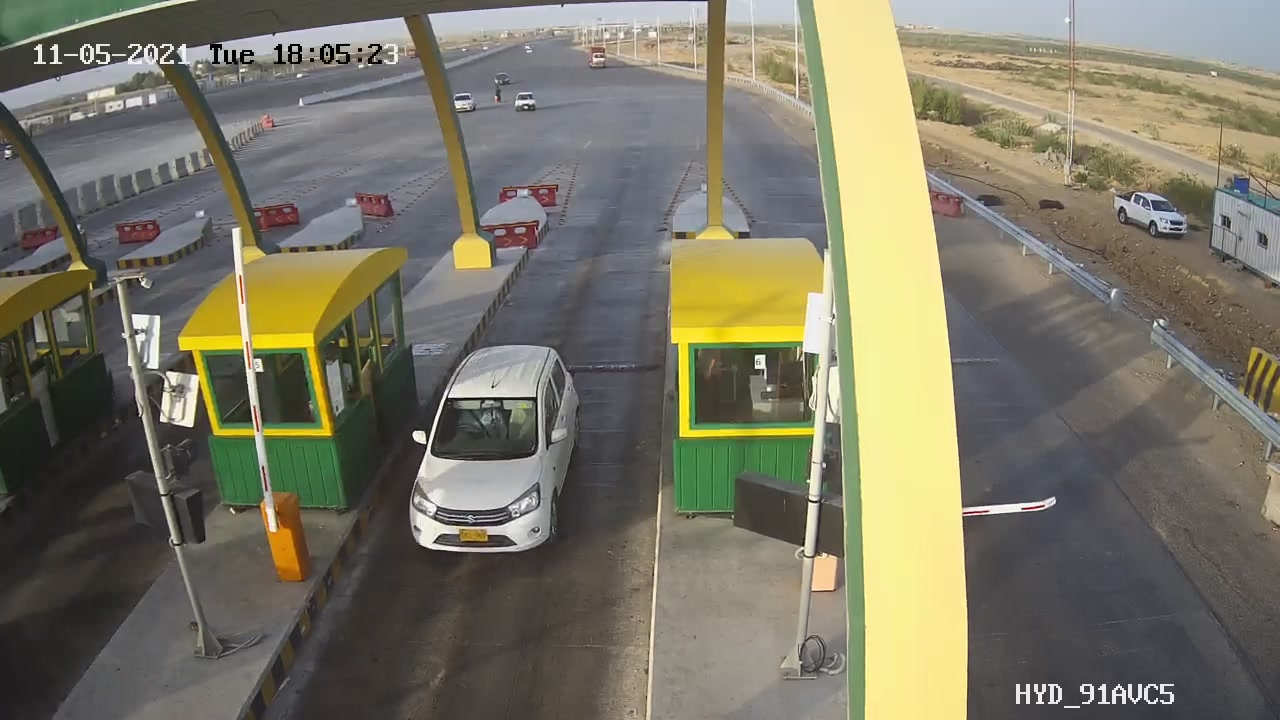F1: (381, 333, 587, 574)
